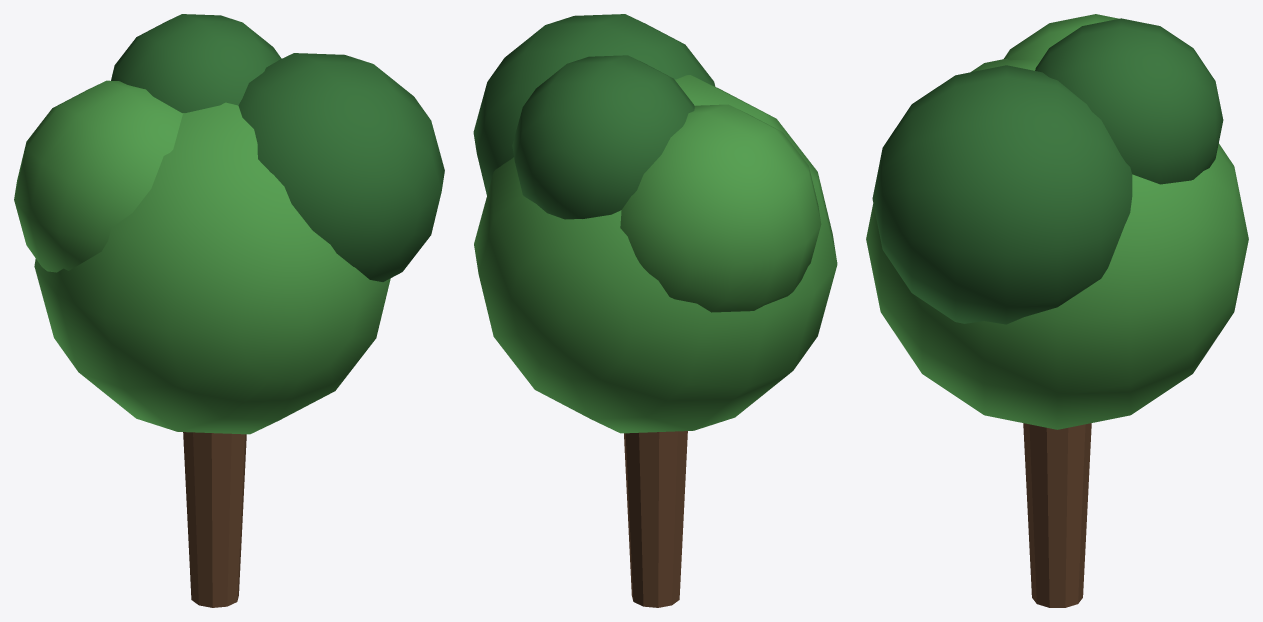
Rendered from tree.glb.
3 views of the same model, side by side, from view 1: azimuth 30°, elevation 25°; view 2: azimuth 150°, elevation 25°; view 3: azimuth 270°, elevation 25° (orthographic). The views are drawn at different scales.
Visible parts, largest first — view 1: trunk; view 2: trunk; view 3: trunk.
Part boxes in pixels (<box>): trunk: <box>14,14,444,607</box>; trunk: <box>473,14,837,607</box>; trunk: <box>866,14,1248,607</box>.
Size of the model in its own units: 3.4 by 5 by 3.
